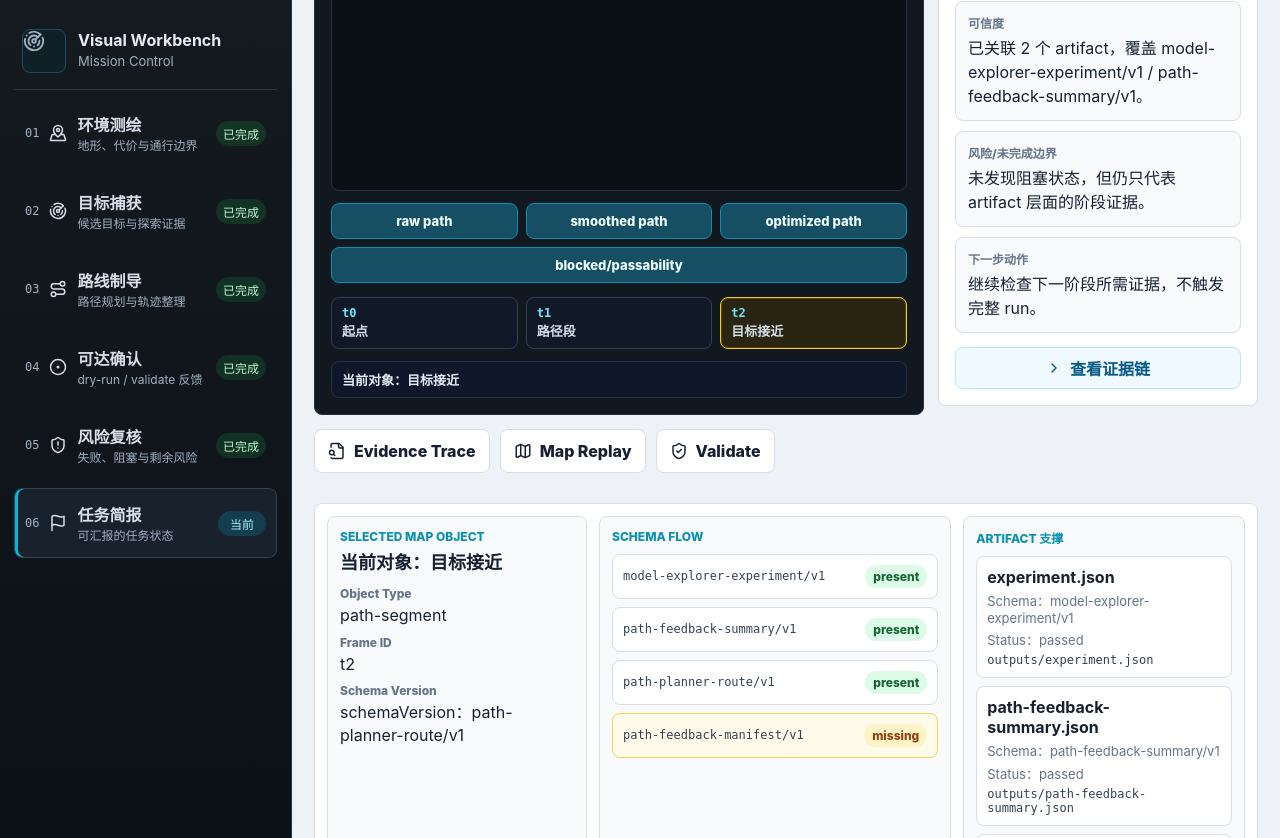
Test: App › validate entry point states dry-run and validate only
The width and height of the screenshot is (1280, 838).
(page scrolled)
What coordinates should you click on to do the following:
click the button "Validate"
I would click on:
 (715, 451)
Its box is x1=656 y1=429 x2=775 y2=473.
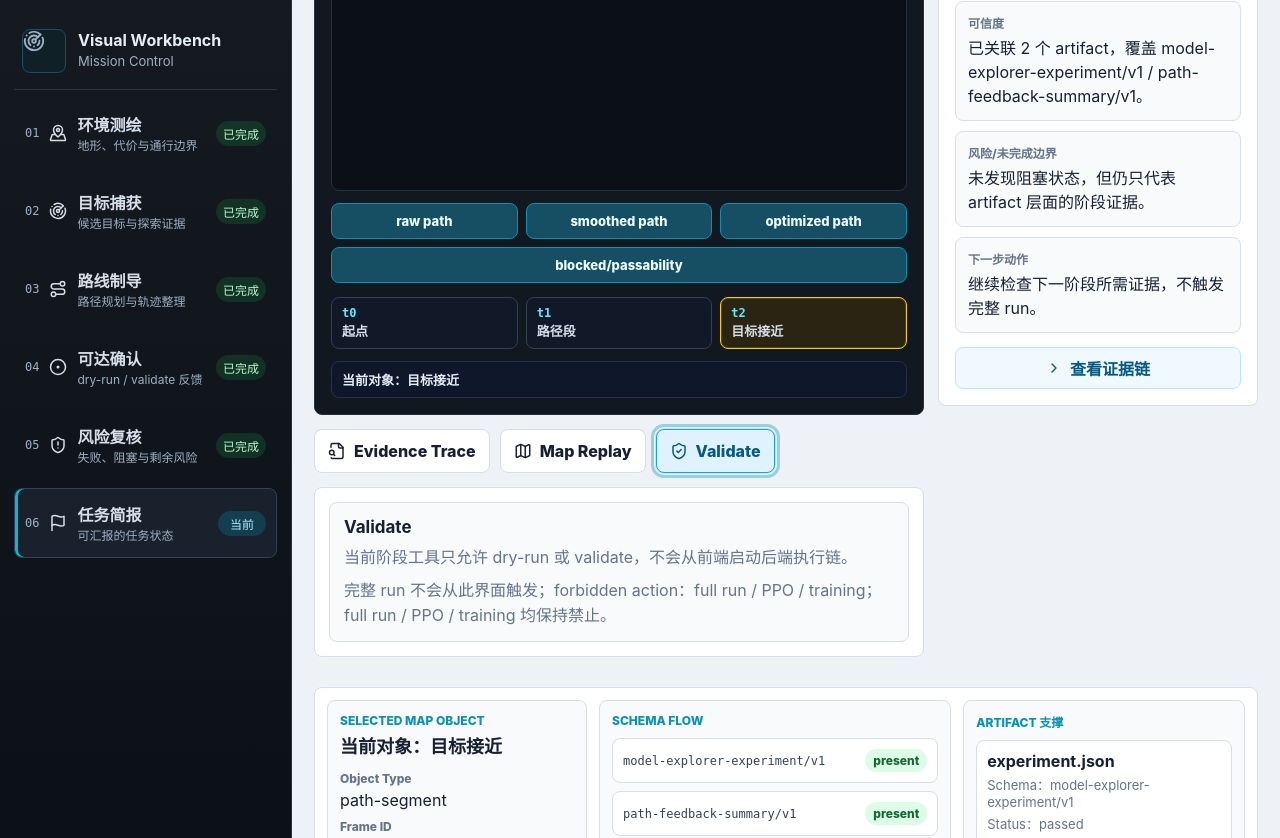
Now the text "当前阶段工具只允许 dry-run 或 validate，不会从前端启动后端执行链。" is shown, box x1=344 y1=545 x2=894 y2=570
Now the text "完整 run 不会" is shown, box x1=344 y1=580 x2=694 y2=600
